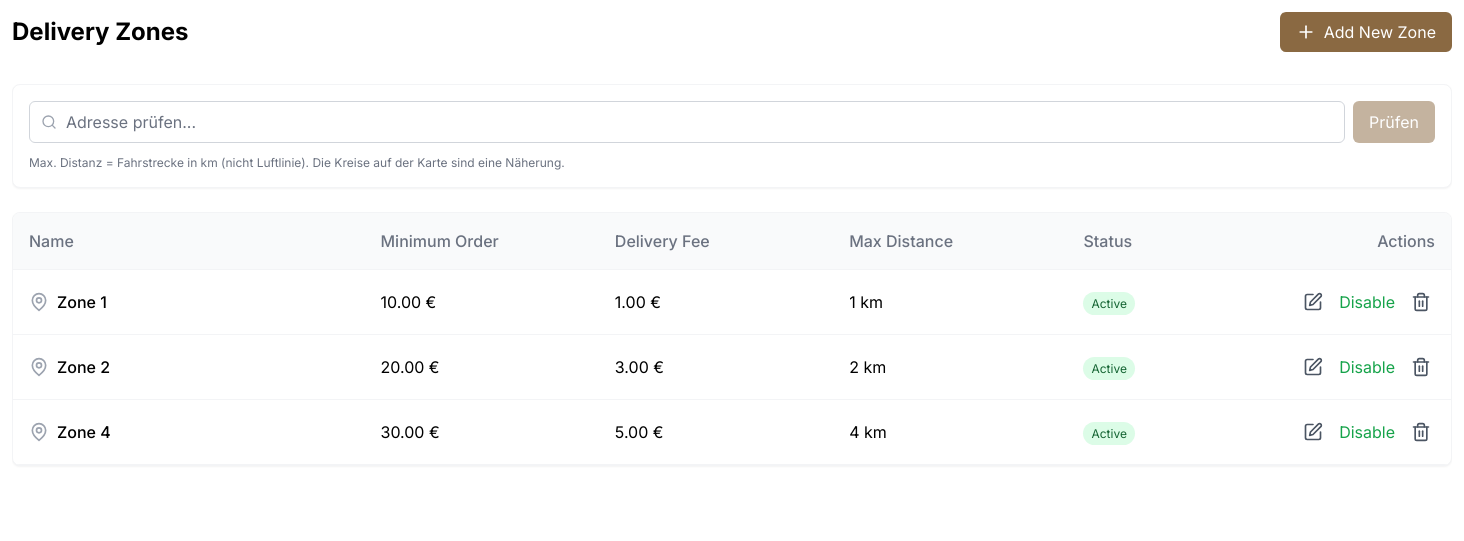
Test case: Admin delivery-zones — проверка адреса подсвечивает зону (AC #7) › после Prüfen: карта получает highlightedZoneId, карточка зоны 2 подсвечена, показано сообщение
The image size is (1464, 541).
Check: the text "Zone 2" is shown, box [57,355,110,379]
In the field with placeholder "Adresse prüfen...": (687,122) [29,101,1345,143], type "Teststr. 5, 97688 Bad Kissingen"
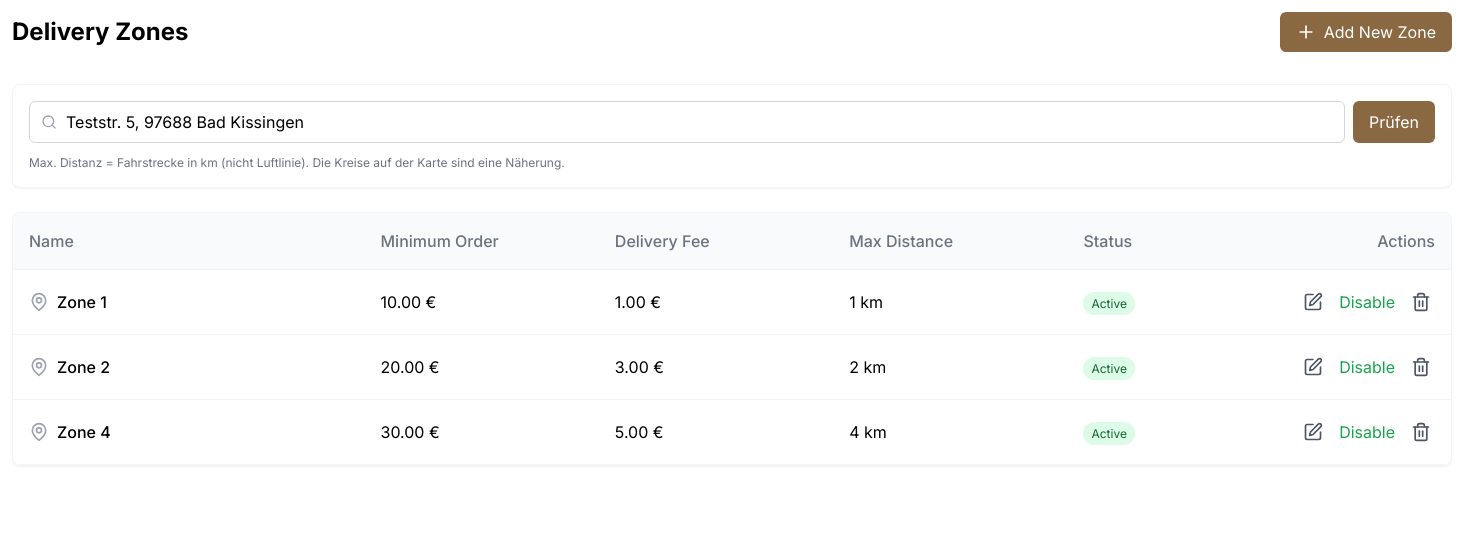
Click the button "Prüfen": (1394,122) [1353,101,1435,143]
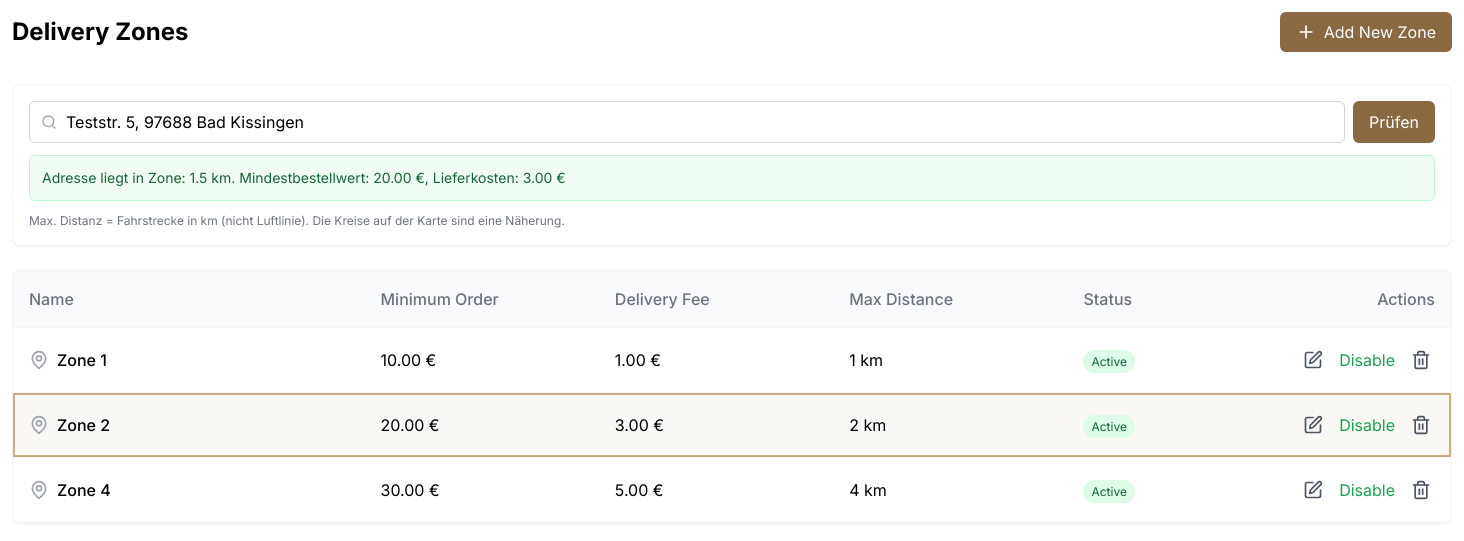
Check: the text with test id "address-check-result" shows "Adresse liegt in Zone: 1.5 km", box [42,169,566,186]
